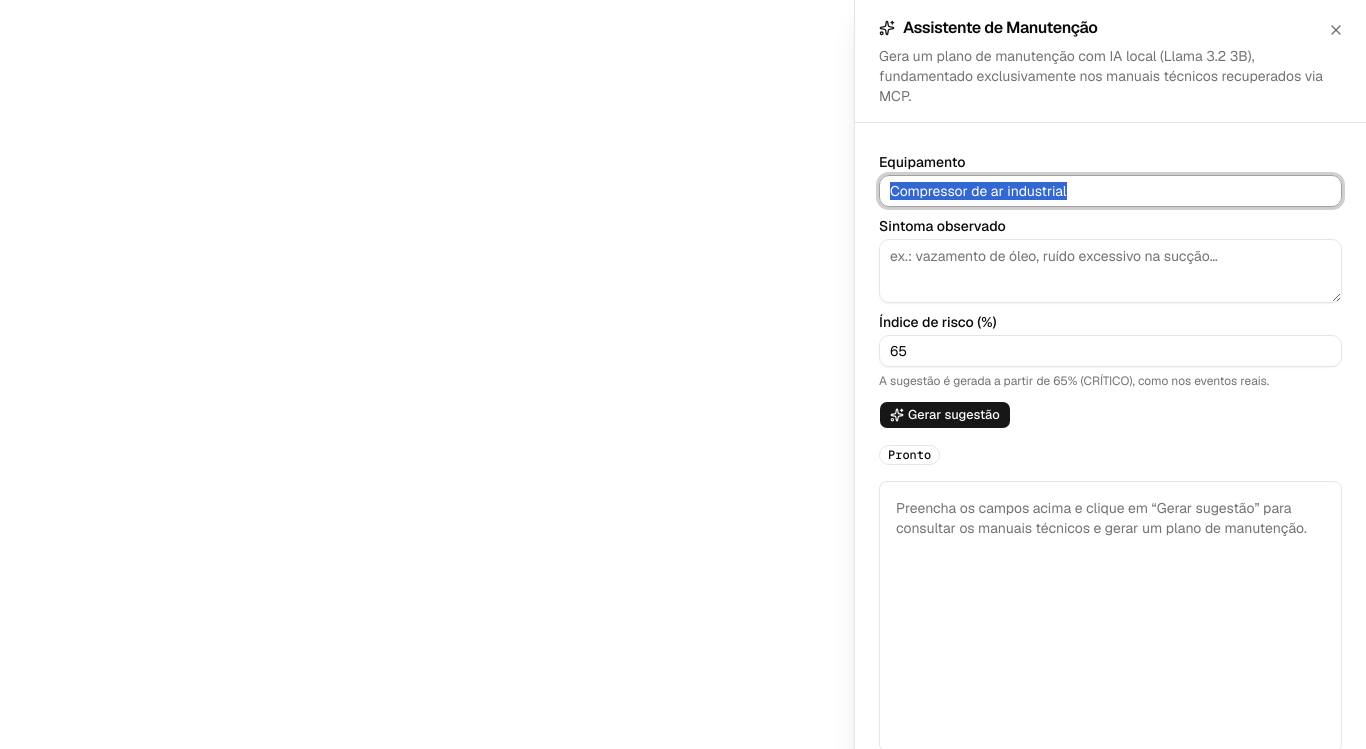
Scenario: MaintenanceAssistant › J) informa claramente quando nenhuma referência foi retornada
Click the button "Gerar sugestão" at (945, 415), box [879,401,1011,429]
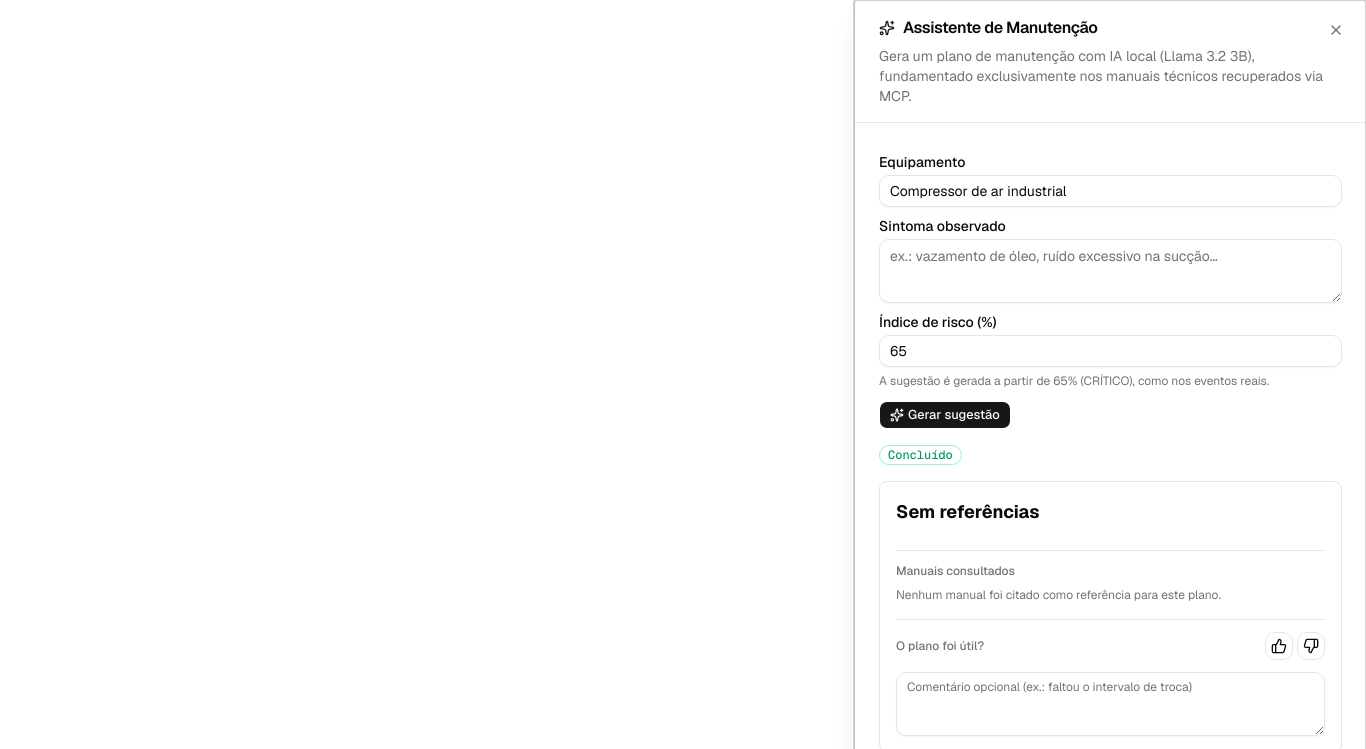
expect the text "Nenhum manual foi citado como referência para este plano." is shown: met, box [896,587,1221,603]
